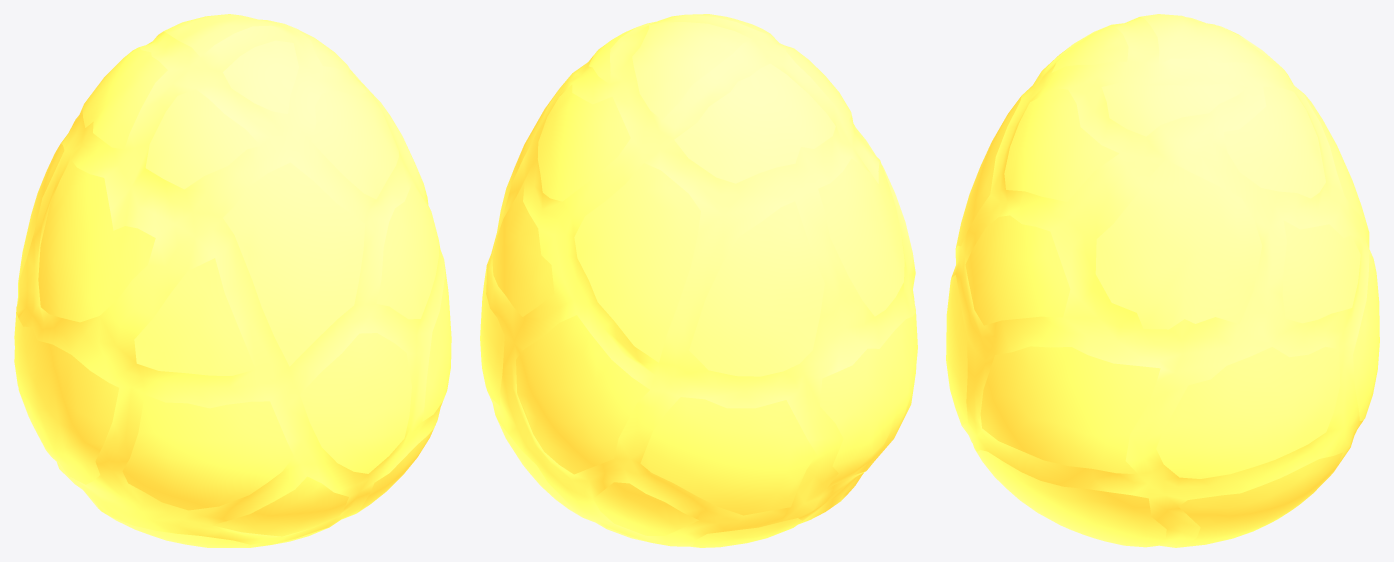
File: oeufEmi.fbx
3 views of the same model, side by side, from view 1: azimuth 30°, elevation 25°; view 2: azimuth 150°, elevation 25°; view 3: azimuth 270°, elevation 25° (orthographic).
Visible parts, largest first — view 1: oeuf.001; view 2: oeuf.001; view 3: oeuf.001.
Boxes of the visible parts, x1,y1,x2,y2 form: oeuf.001: [14, 14, 451, 547]; oeuf.001: [480, 14, 917, 547]; oeuf.001: [946, 14, 1379, 547].
Bounding box in the file's own units: 150 × 187 × 148.
